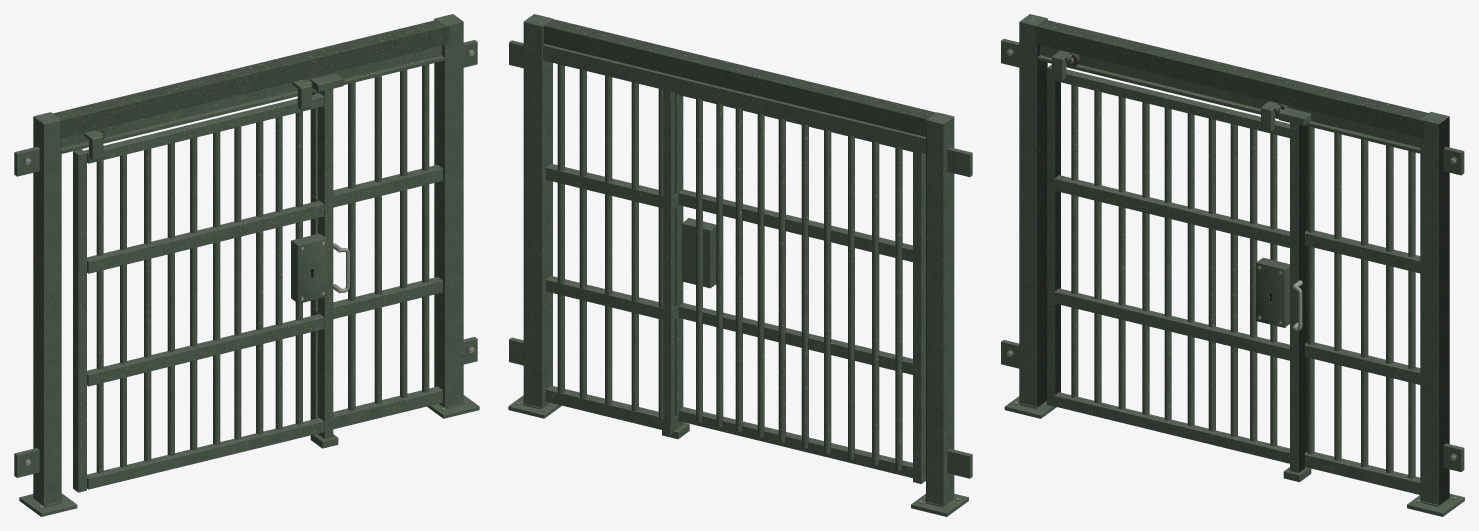
The model's file is cell_gate_bar_assembly.glb.
3 renders of one model, left to right at view 1: azimuth 30°, elevation 25°; view 2: azimuth 150°, elevation 25°; view 3: azimuth 330°, elevation 25°, orthographic.
Parts seen in each view (by area): view 1: OuterSupportFrame, SlidingDoorFrame, SlidingDoorBars, FixedPanelBars, FixedPanelFrame, OverheadSlideTrack, MortiseLockHousing, SideMountingTabs, SlidingDoorHangersAndGuides, FootPlates; view 2: OuterSupportFrame, SlidingDoorBars, SlidingDoorFrame, FixedPanelBars, FixedPanelFrame, OverheadSlideTrack, SideMountingTabs, MortiseLockHousing, FootPlates; view 3: OuterSupportFrame, SlidingDoorFrame, SlidingDoorBars, FixedPanelBars, FixedPanelFrame, OverheadSlideTrack, MortiseLockHousing, SideMountingTabs, SlidingDoorHangersAndGuides, FootPlates.
Boxes of the visible parts, x1,y1,x2,y2 form: OuterSupportFrame: (33,14,463,505); SlidingDoorFrame: (73,89,333,492); SlidingDoorBars: (96,111,302,473); FixedPanelBars: (348,64,429,410); FixedPanelFrame: (310,91,442,429); OverheadSlideTrack: (61,45,444,153); MortiseLockHousing: (291,233,326,303); SideMountingTabs: (14,40,477,477); SlidingDoorHangersAndGuides: (84,73,343,448); FootPlates: (19,395,479,516); OuterSupportFrame: (523,14,954,506); SlidingDoorBars: (696,98,902,471); SlidingDoorFrame: (675,92,925,483); FixedPanelBars: (557,64,663,418); FixedPanelFrame: (546,90,677,434); OverheadSlideTrack: (543,44,925,153); SideMountingTabs: (509,40,972,478); MortiseLockHousing: (681,218,716,288); FootPlates: (508,395,968,516); OuterSupportFrame: (1019,14,1449,504); SlidingDoorFrame: (1047,64,1304,472); SlidingDoorBars: (1071,85,1277,446); FixedPanelBars: (1307,126,1415,478); FixedPanelFrame: (1305,125,1420,494); OverheadSlideTrack: (1037,45,1420,153); MortiseLockHousing: (1256,257,1289,327); SideMountingTabs: (1001,39,1464,472); SlidingDoorHangersAndGuides: (1052,50,1311,482); FootPlates: (1004,396,1464,516).
Size of the model in its own units: 4.45 by 3.57 by 0.477.
18 materials, 14 textured.
